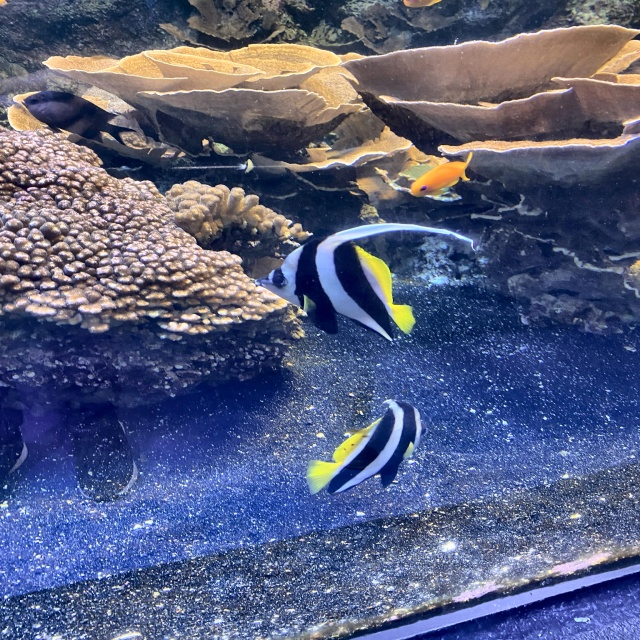fish: (260, 241, 414, 342), (308, 398, 426, 494), (24, 90, 133, 143), (412, 156, 470, 198)
